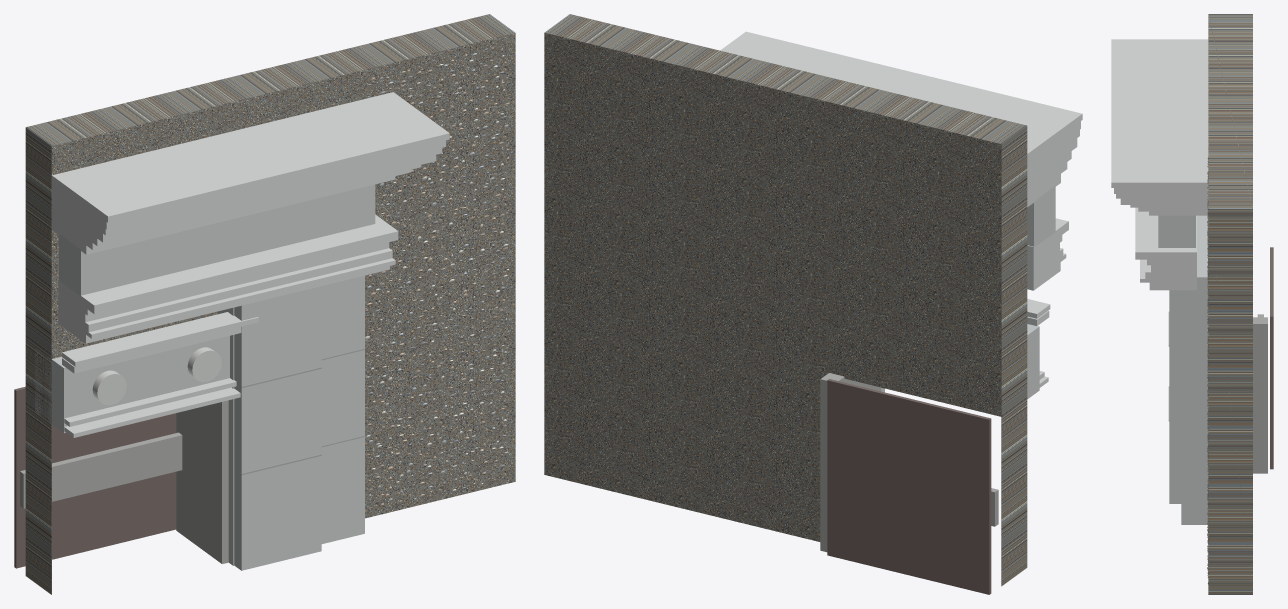
File: yueyang-168-jingju-pebble-dash-doorhead-near.glb
3 renders of one model, left to right at view 1: azimuth 30°, elevation 25°; view 2: azimuth 150°, elevation 25°; view 3: azimuth 270°, elevation 25°, orthographic. The views are drawn at different scales.
Parts seen in each view (by area): view 1: 上海京剧传习馆1号楼鹅卵石墙与门楣双圆饰; view 2: 上海京剧传习馆1号楼鹅卵石墙与门楣双圆饰; view 3: 上海京剧传习馆1号楼鹅卵石墙与门楣双圆饰.
Boxes of the visible parts, bbox=[...] form: 上海京剧传习馆1号楼鹅卵石墙与门楣双圆饰: bbox=[14, 14, 515, 594]; 上海京剧传习馆1号楼鹅卵石墙与门楣双圆饰: bbox=[544, 14, 1082, 594]; 上海京剧传习馆1号楼鹅卵石墙与门楣双圆饰: bbox=[1111, 14, 1273, 594].
Bounding box in the file's own units: 1.61 × 1.49 × 0.567.
Materials: 12 (1 with a texture image).
